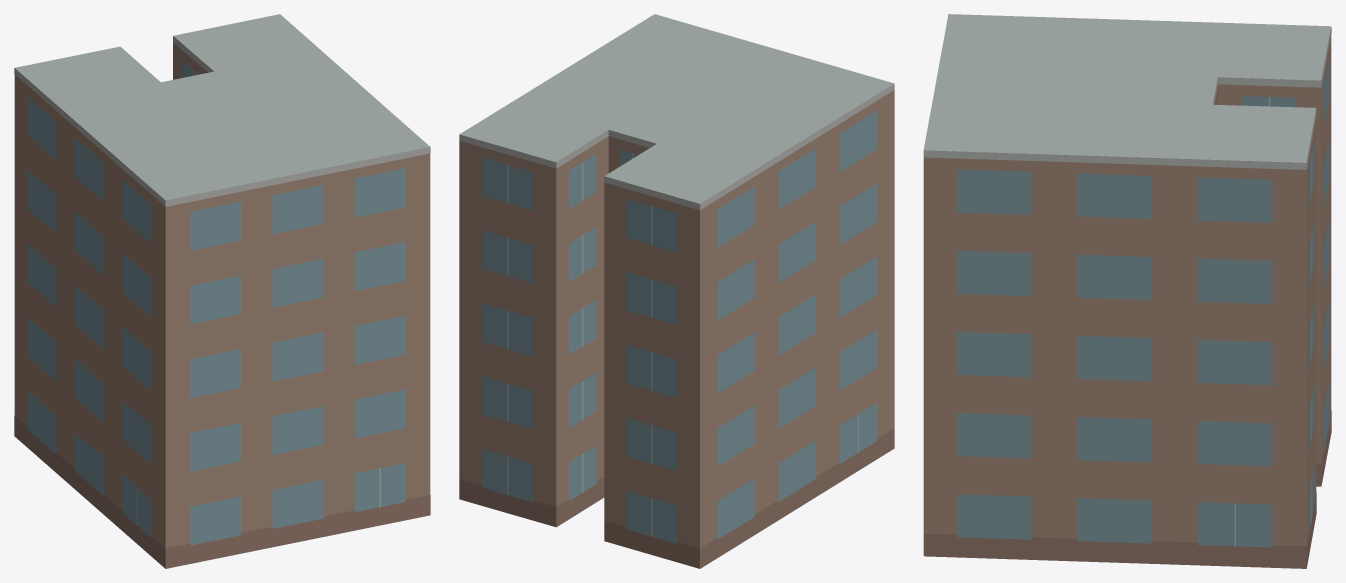
Rendered from survey-upis-32671870.glb.
3 renders of one model, left to right at view 1: azimuth 30°, elevation 25°; view 2: azimuth 150°, elevation 25°; view 3: azimuth 270°, elevation 25°, orthographic. The views are drawn at different scales.
Parts seen in each view (by area): view 1: survey-upis-32671870.tmp; view 2: survey-upis-32671870.tmp; view 3: survey-upis-32671870.tmp.
Boxes of the visible parts, x1,y1,x2,y2 form: survey-upis-32671870.tmp: (14,14,430,568); survey-upis-32671870.tmp: (459,14,894,568); survey-upis-32671870.tmp: (923,14,1331,568).
Size of the model in its own units: 11.11 by 14.1 by 12.85.
